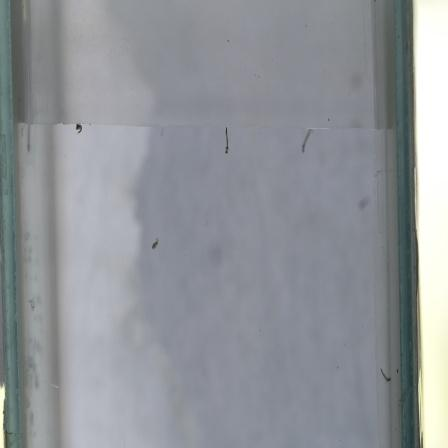Jentik-Nyamuk: (218, 123, 237, 162), (142, 231, 167, 260), (74, 121, 86, 137)
